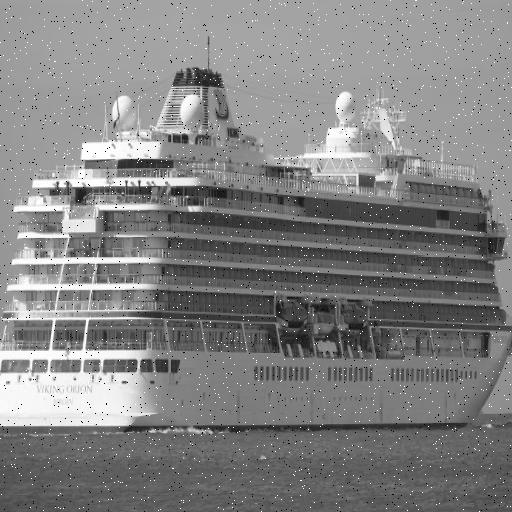cruises: (1, 29, 512, 447)
